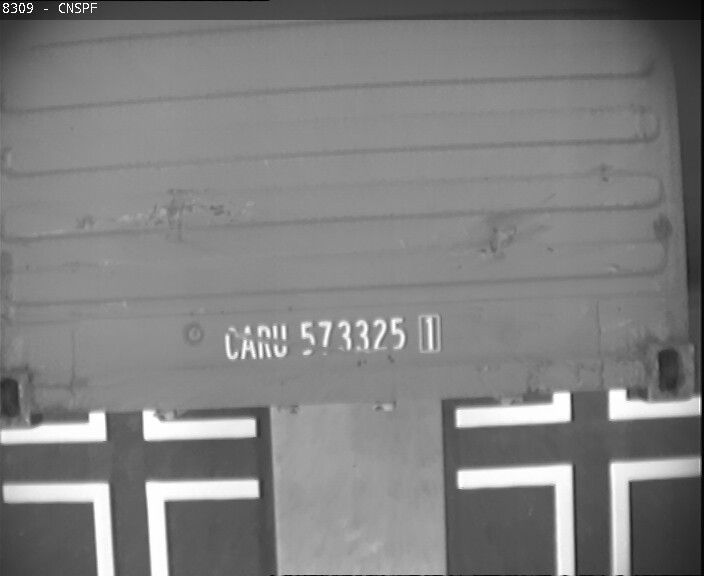groundmarker_1: (456, 460, 703, 575), (2, 478, 253, 573)
